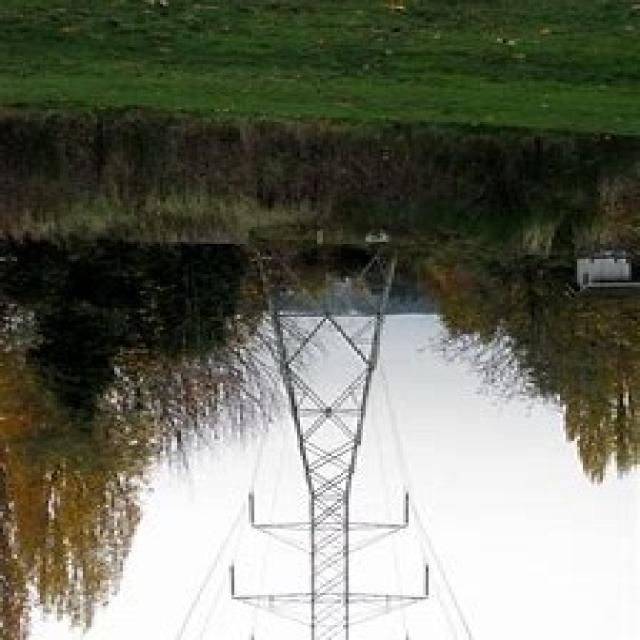utility poles: (182, 158, 456, 640)
